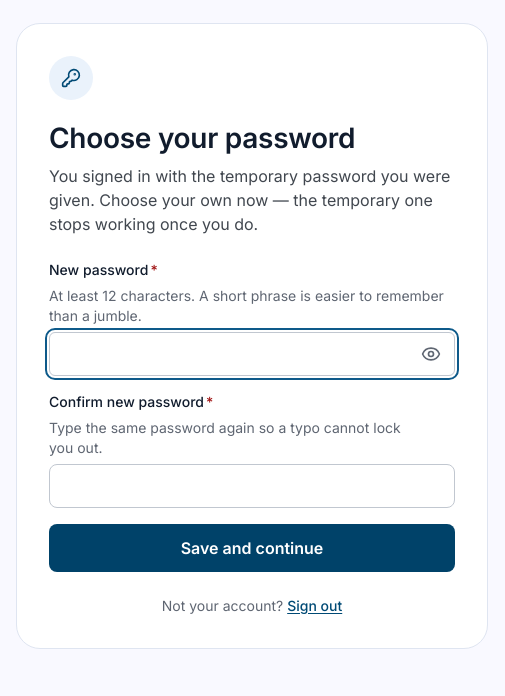
Test: the forced password setup gate › keeps the form and shows why when the change itself fails
In the password field labelled "New password*": (252, 354) x1=49 y1=332 x2=455 y2=376, type "a-long-enough-password"
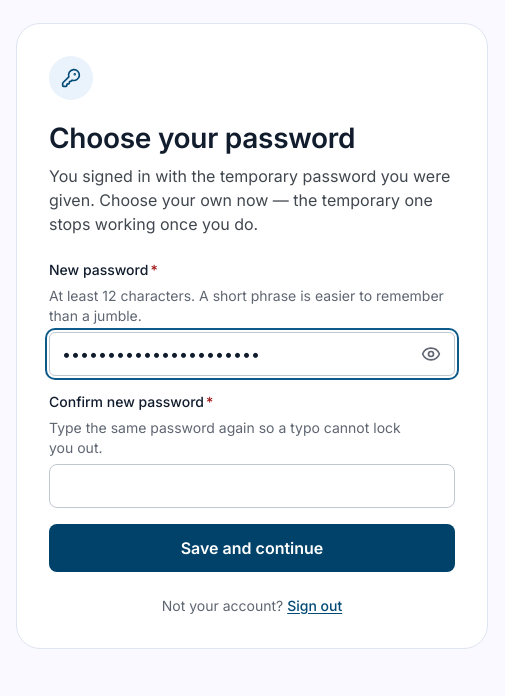
In the password field labelled "Confirm new password*": (252, 486) x1=49 y1=464 x2=455 y2=508, type "a-long-enough-password"
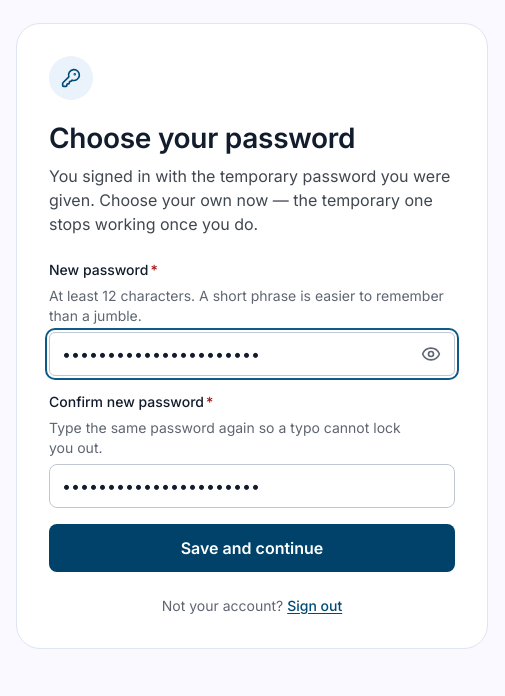
Click the button "Save and continue": (252, 548) x1=49 y1=524 x2=455 y2=572
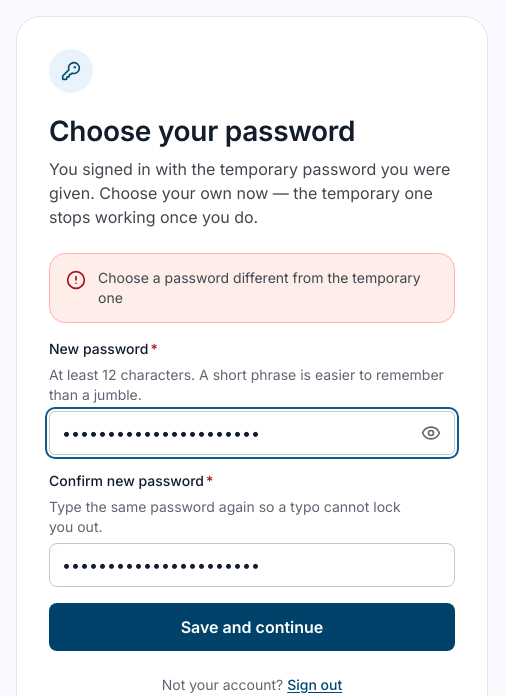
expect the button "Save and continue" is shown: met, box x1=49 y1=603 x2=455 y2=651
expect the text "Choose a password different from the temporary one" is shown: met, box x1=98 y1=268 x2=438 y2=308
